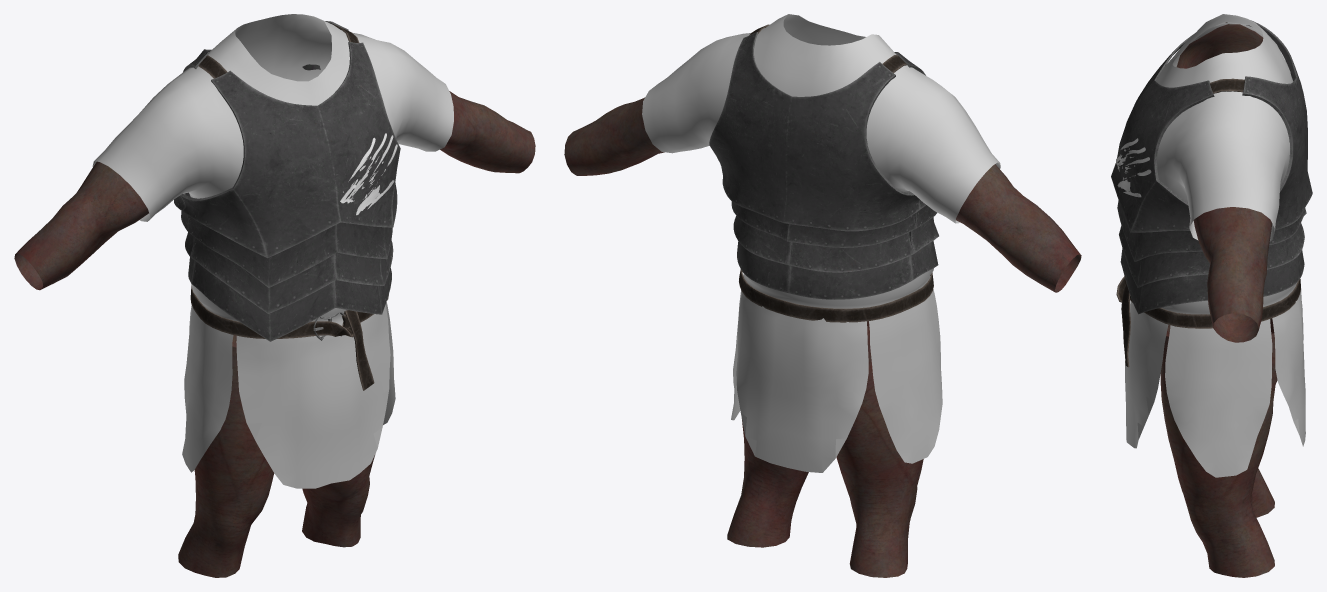
File: sk_uruk_hai_plate_heavy_a2.fbx
The picture shows the model from 3 angles, left to right: view 1: azimuth 30°, elevation 25°; view 2: azimuth 150°, elevation 25°; view 3: azimuth 270°, elevation 25°; orthographic projection. The views are drawn at different scales.
Parts seen in each view (by area): view 1: sk_uruk_hai_plate_heavy_a2.0, sk_uruk_hai_plate_heavy_a2.2, sk_uruk_hai_plate_heavy_a2.body.0, sk_uruk_hai_plate_heavy_a2.body.1, sk_uruk_hai_plate_heavy_a2.1, sk_uruk_hai_plate_heavy_a2.3; view 2: sk_uruk_hai_plate_heavy_a2.0, sk_uruk_hai_plate_heavy_a2.2, sk_uruk_hai_plate_heavy_a2.body.0, sk_uruk_hai_plate_heavy_a2.body.1, sk_uruk_hai_plate_heavy_a2.1; view 3: sk_uruk_hai_plate_heavy_a2.0, sk_uruk_hai_plate_heavy_a2.2, sk_uruk_hai_plate_heavy_a2.body.0, sk_uruk_hai_plate_heavy_a2.body.1, sk_uruk_hai_plate_heavy_a2.1, sk_uruk_hai_plate_heavy_a2.3.
Boxes of the visible parts, x1=… form: sk_uruk_hai_plate_heavy_a2.0: x1=92, y1=14, x2=453, y2=488; sk_uruk_hai_plate_heavy_a2.2: x1=174, y1=21, x2=400, y2=341; sk_uruk_hai_plate_heavy_a2.body.0: x1=178, y1=335, x2=375, y2=577; sk_uruk_hai_plate_heavy_a2.body.1: x1=14, y1=91, x2=535, y2=290; sk_uruk_hai_plate_heavy_a2.1: x1=190, y1=24, x2=388, y2=390; sk_uruk_hai_plate_heavy_a2.3: x1=340, y1=133, x2=397, y2=215; sk_uruk_hai_plate_heavy_a2.0: x1=642, y1=14, x2=1000, y2=472; sk_uruk_hai_plate_heavy_a2.2: x1=709, y1=32, x2=938, y2=299; sk_uruk_hai_plate_heavy_a2.body.0: x1=727, y1=321, x2=923, y2=577; sk_uruk_hai_plate_heavy_a2.body.1: x1=564, y1=97, x2=1081, y2=292; sk_uruk_hai_plate_heavy_a2.1: x1=739, y1=24, x2=933, y2=322; sk_uruk_hai_plate_heavy_a2.0: x1=1125, y1=14, x2=1305, y2=477; sk_uruk_hai_plate_heavy_a2.2: x1=1111, y1=20, x2=1312, y2=314; sk_uruk_hai_plate_heavy_a2.body.0: x1=1160, y1=318, x2=1277, y2=577; sk_uruk_hai_plate_heavy_a2.body.1: x1=1176, y1=24, x2=1272, y2=342; sk_uruk_hai_plate_heavy_a2.1: x1=1116, y1=22, x2=1300, y2=367; sk_uruk_hai_plate_heavy_a2.3: x1=1116, y1=138, x2=1151, y2=197.
Bounding box in the file's own units: 1.2 × 0.4324 × 1.19.
